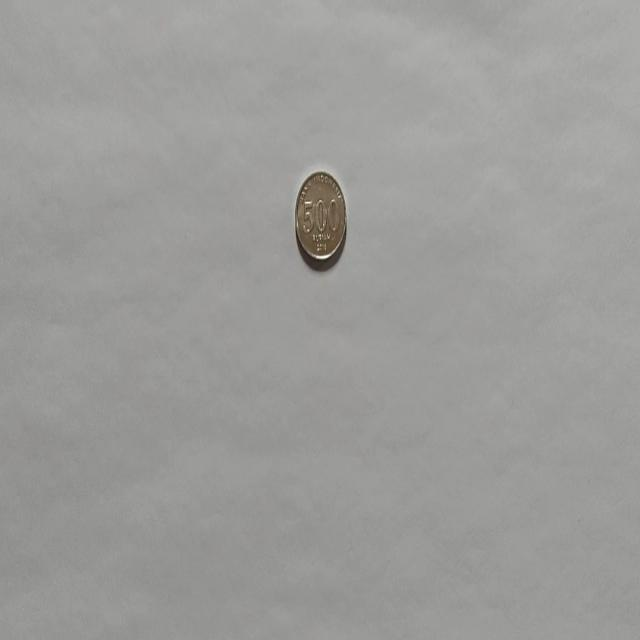lima ratus rupiah: (294, 169, 347, 265)
